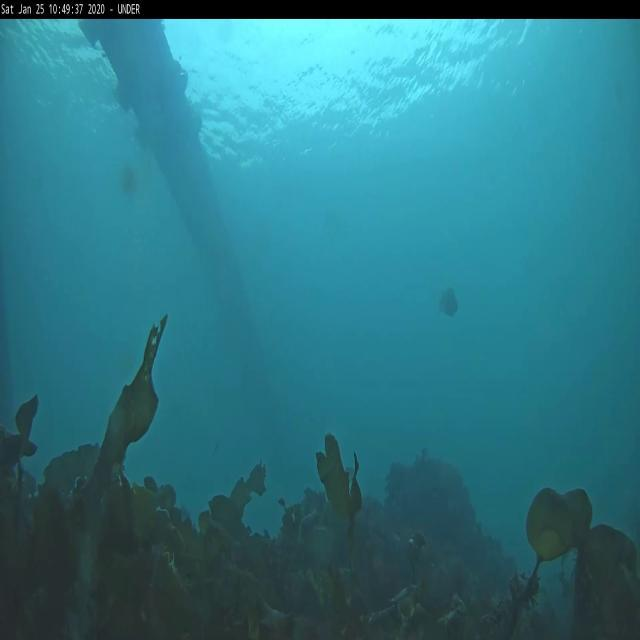fish: (434, 288, 462, 318)
